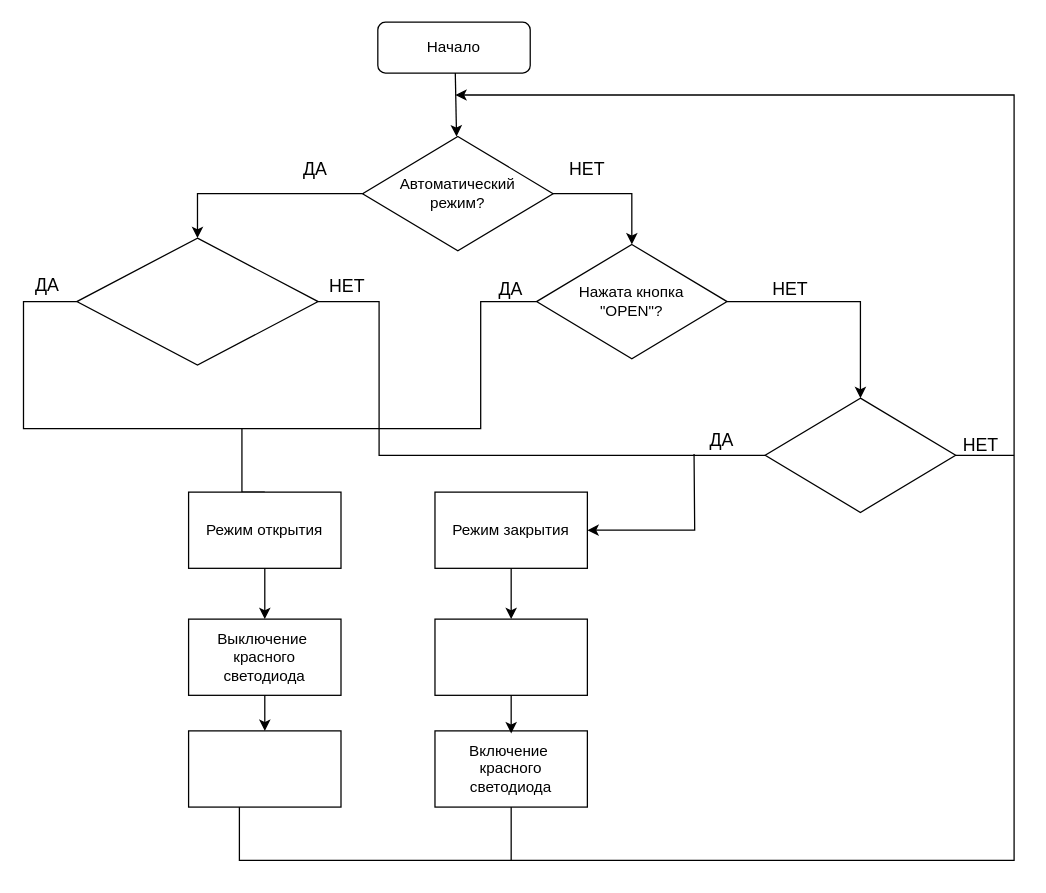
Some shapes in this 1046 by 893 pixel diagram are drawn without their labels. The shapes that lost their labels are listed below. From the top down, each one's box as (x1, y1, x2, y2) in pixels, then its label:
(76, 237, 318, 365): Авто-температура <= температура воздуха
(764, 397, 956, 512): Нажата кнопка "CLOSE"?
(434, 618, 587, 695): Выключение зеленного светодиода
(187, 730, 341, 807): Включение зеленог светодиода
